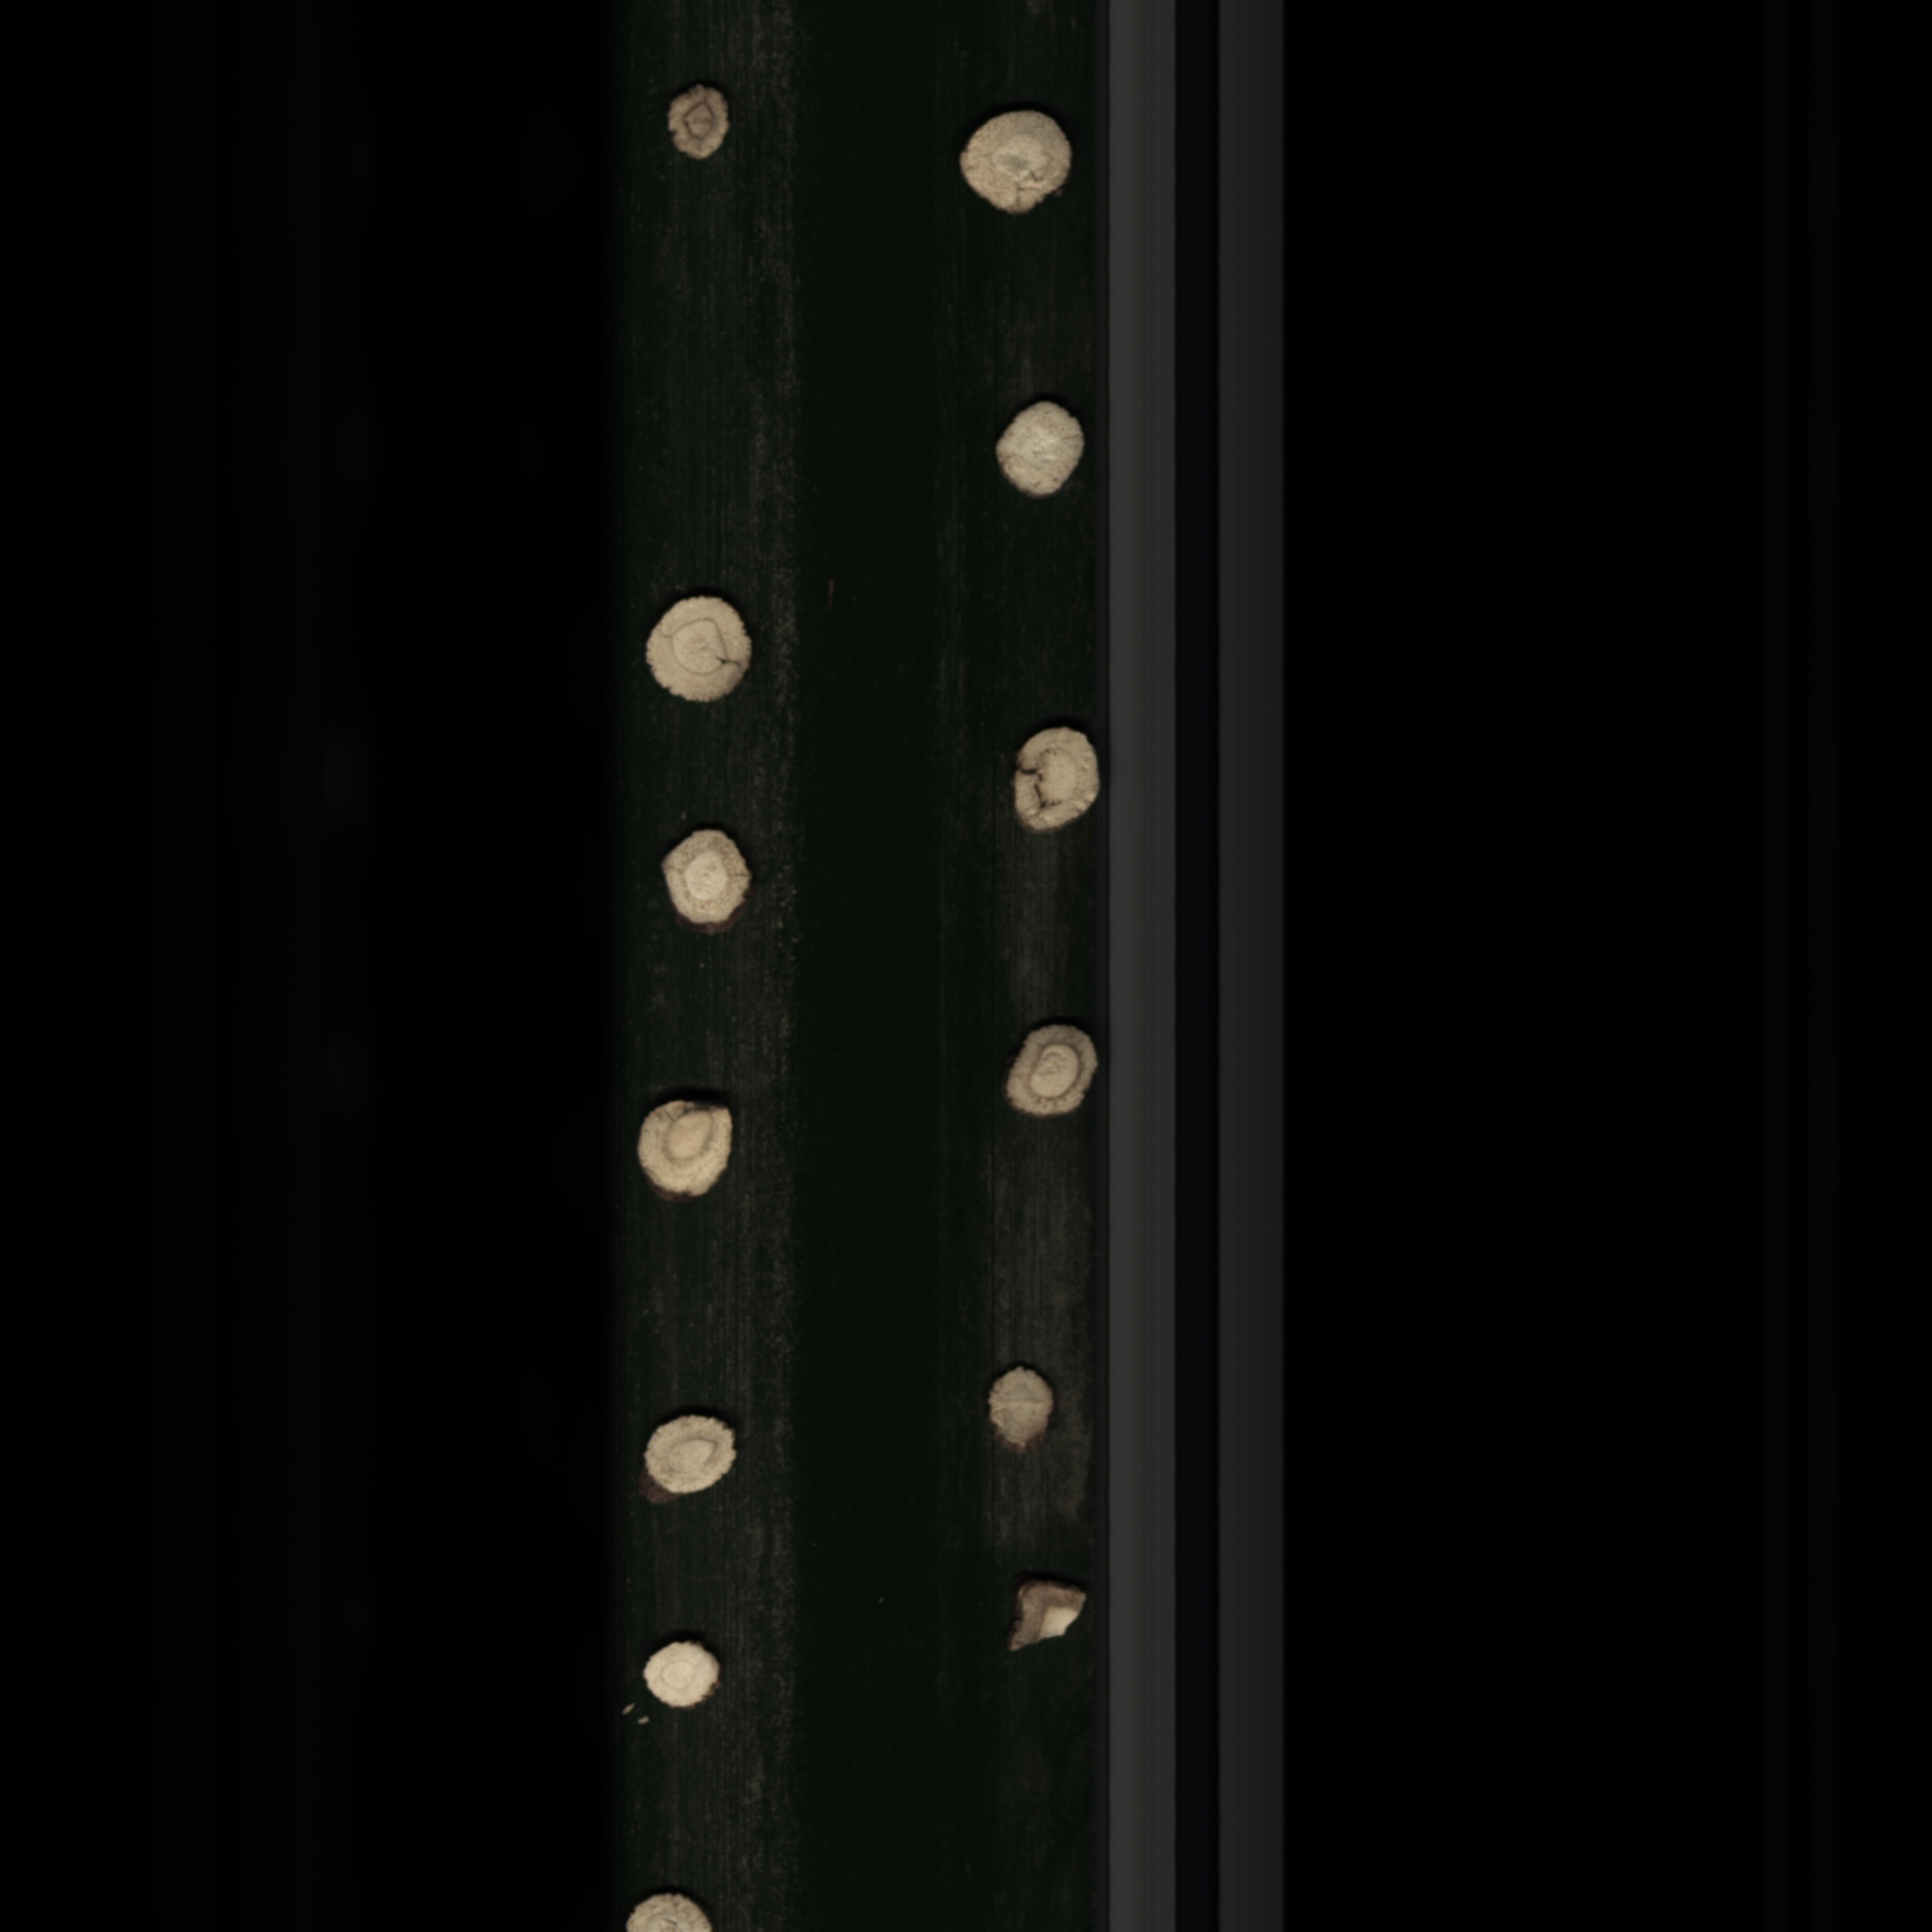debris: (998, 1571, 1095, 1658)
hole: (1005, 718, 1104, 840)
moldy: (648, 80, 743, 173)
